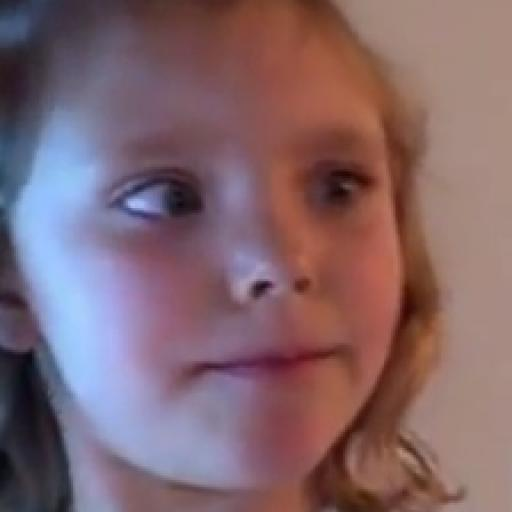Autism: (47, 5, 451, 498)
